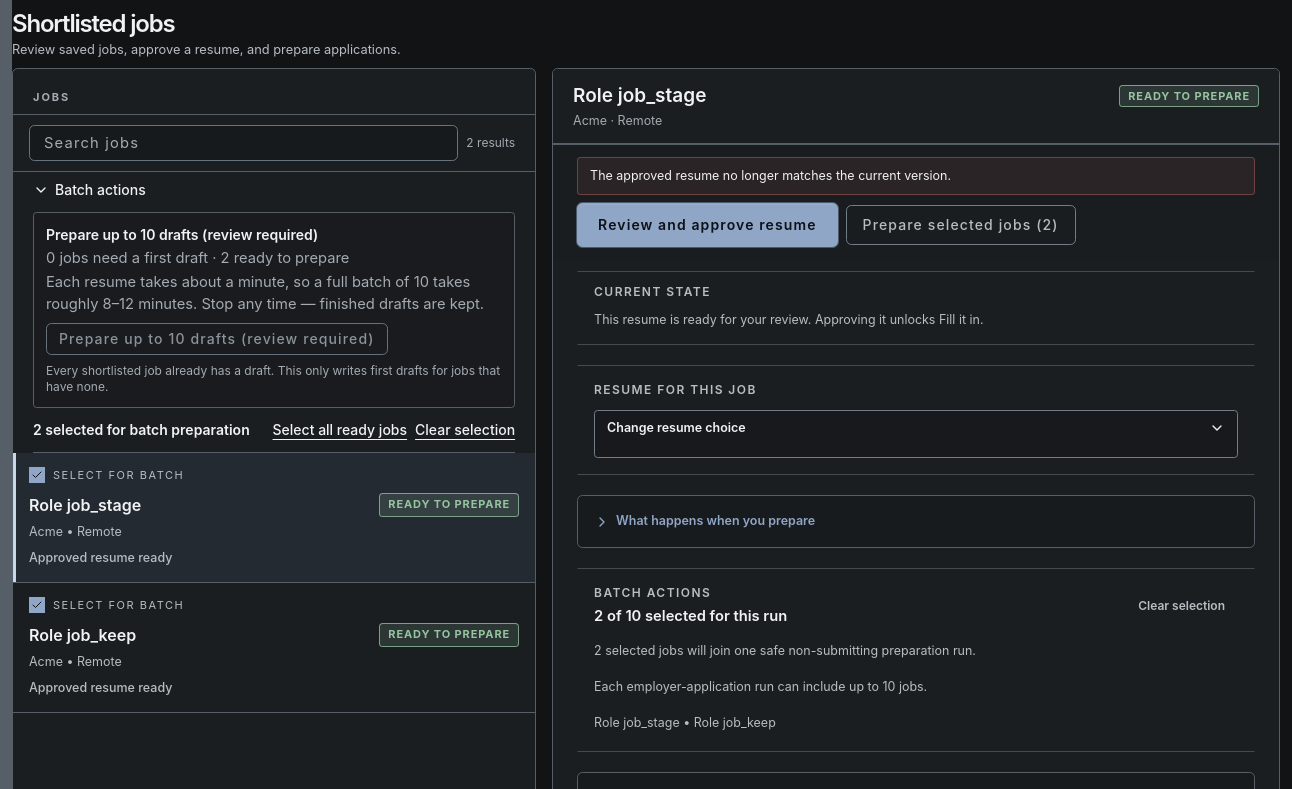
ReviewQueueScreen batch selection persistence › removes staged jobs from the curation when queuing selected applications
Step 1. Click the button "Prepare selected jobs (2)" → [961, 224], box left=846, top=204, right=1076, bottom=244
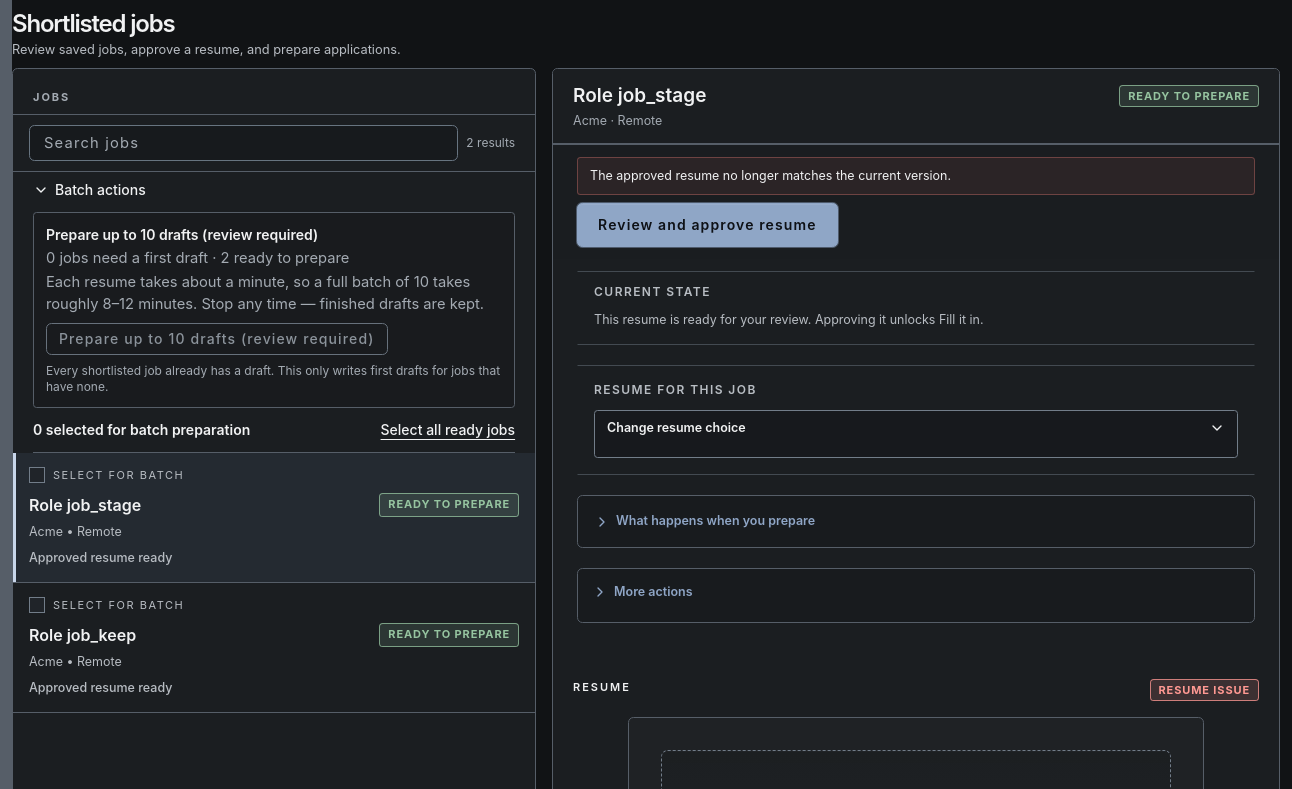
Now the text "0 selected for batch preparation" is shown, box left=33, top=420, right=250, bottom=440
